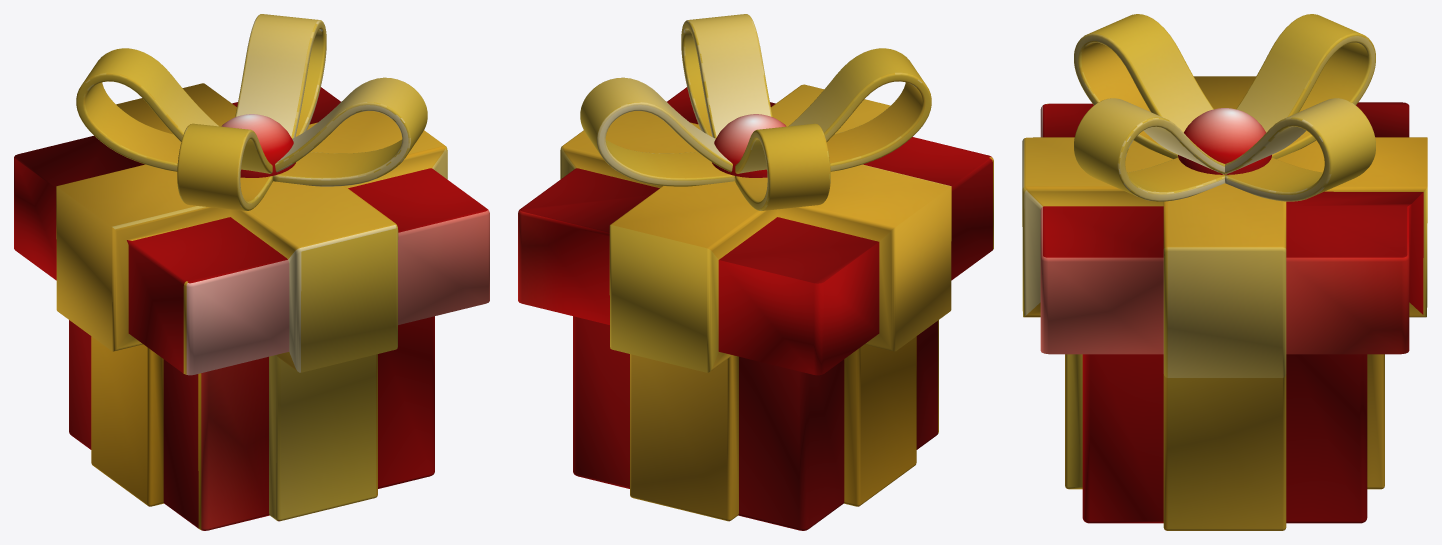
File: KDO.fbx
3 renders of one model, left to right at view 1: azimuth 30°, elevation 25°; view 2: azimuth 150°, elevation 25°; view 3: azimuth 270°, elevation 25°, orthographic. The views are drawn at different scales.
Parts seen in each view (by area): view 1: Cube.007; view 2: Cube.007; view 3: Cube.007.
Part boxes in pixels (box(x1,y1,x2,y2)): Cube.007: box(14, 14, 489, 530); Cube.007: box(518, 14, 993, 530); Cube.007: box(1022, 14, 1427, 530).
Size of the model in its own units: 285 by 308 by 285.
